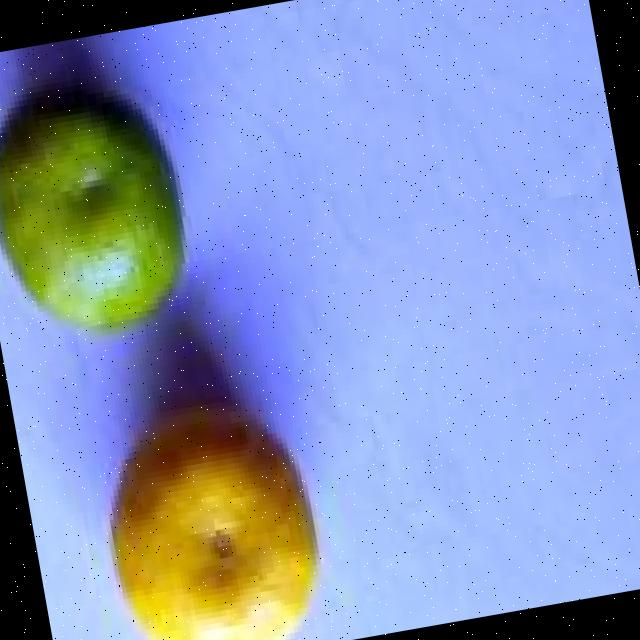Good_Orange-15-21 days: (107, 409, 310, 640), (0, 88, 182, 328)
